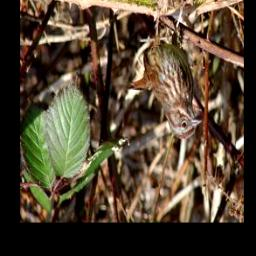Sparrow: (124, 0, 202, 140)
